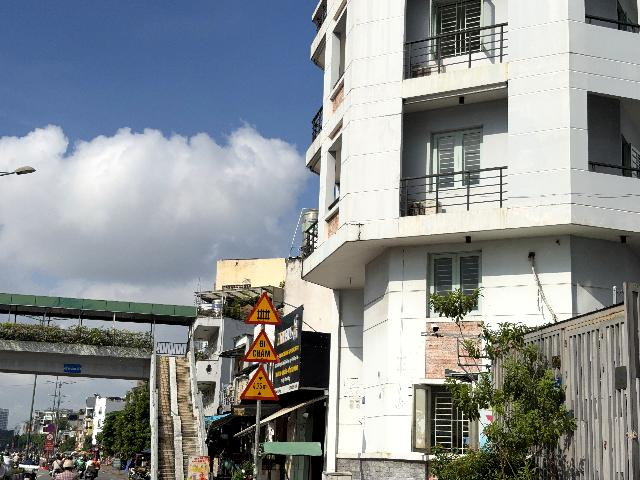chieu-cao-tinh-khong-thuc-te: (239, 364, 279, 401)
di-cham: (242, 328, 280, 363)
noi-giao-nhau-voi-duong-sat-co-rao-chan: (244, 292, 282, 325)
